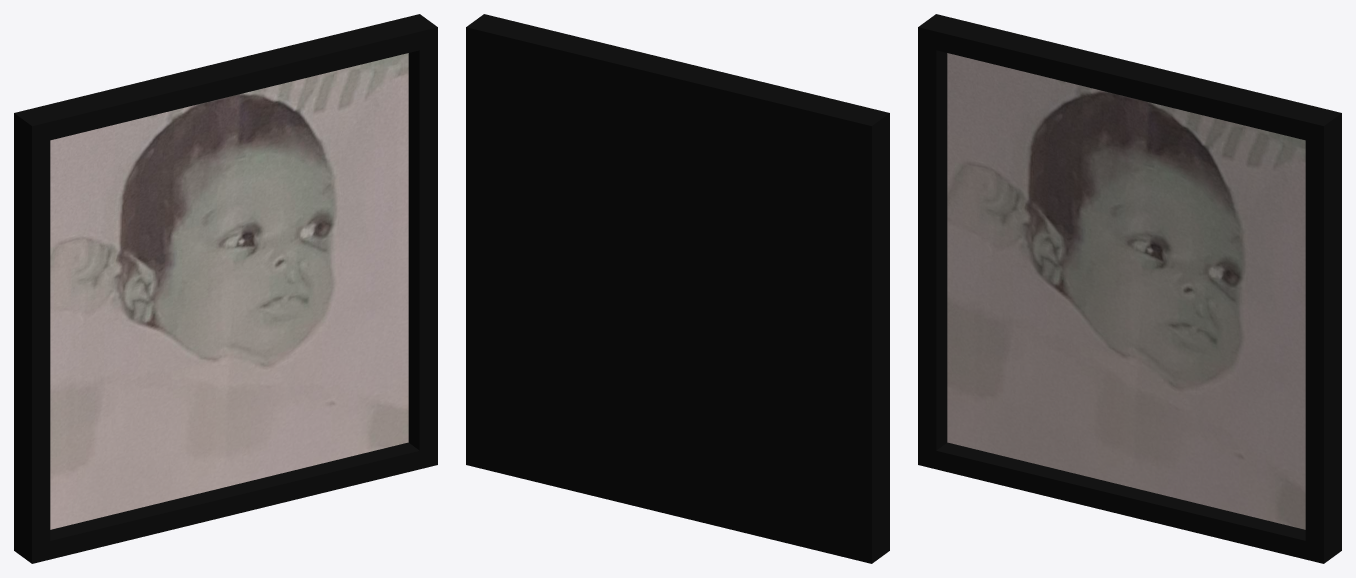
File: Bocal Picture 02.fbx
The picture shows the model from 3 angles, left to right: view 1: azimuth 30°, elevation 25°; view 2: azimuth 150°, elevation 25°; view 3: azimuth 330°, elevation 25°; orthographic projection.
Visible parts, largest first — view 1: Bocal Picture 02.001; view 2: Bocal Picture 02.001; view 3: Bocal Picture 02.001.
Part boxes in pixels (box(x1,y1,x2,y2)): Bocal Picture 02.001: box(14, 14, 437, 563); Bocal Picture 02.001: box(466, 14, 889, 563); Bocal Picture 02.001: box(918, 14, 1341, 563).
Bounding box in the file's own units: 0.429 × 0.4422 × 0.033.
